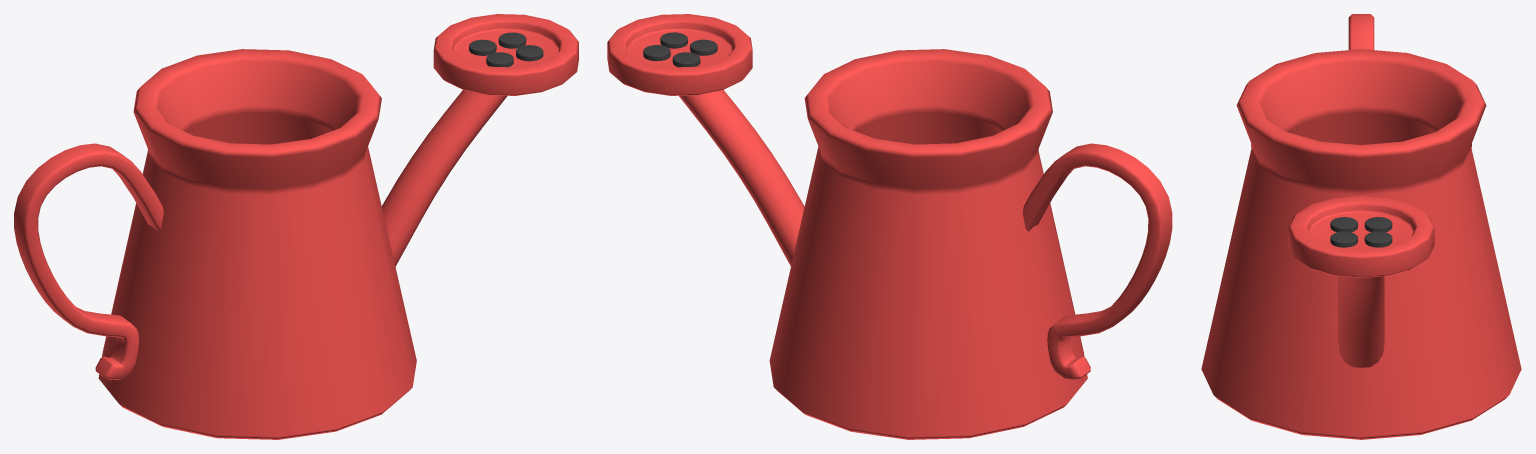
File: Farm_9_Watering_can_1.glb
3 views of the same model, side by side, from view 1: azimuth 30°, elevation 25°; view 2: azimuth 150°, elevation 25°; view 3: azimuth 270°, elevation 25° (orthographic).
Parts seen in each view (by area): view 1: Farm_9_Watering_can_1; view 2: Farm_9_Watering_can_1; view 3: Farm_9_Watering_can_1.
Part boxes in pixels (x1=…): Farm_9_Watering_can_1: x1=14, y1=14, x2=578, y2=439; Farm_9_Watering_can_1: x1=607, y1=14, x2=1172, y2=439; Farm_9_Watering_can_1: x1=1201, y1=14, x2=1521, y2=439.
Bounding box in the file's own units: 0.8204 × 0.3909 × 0.4139.
Materials: 1 (1 with a texture image).
